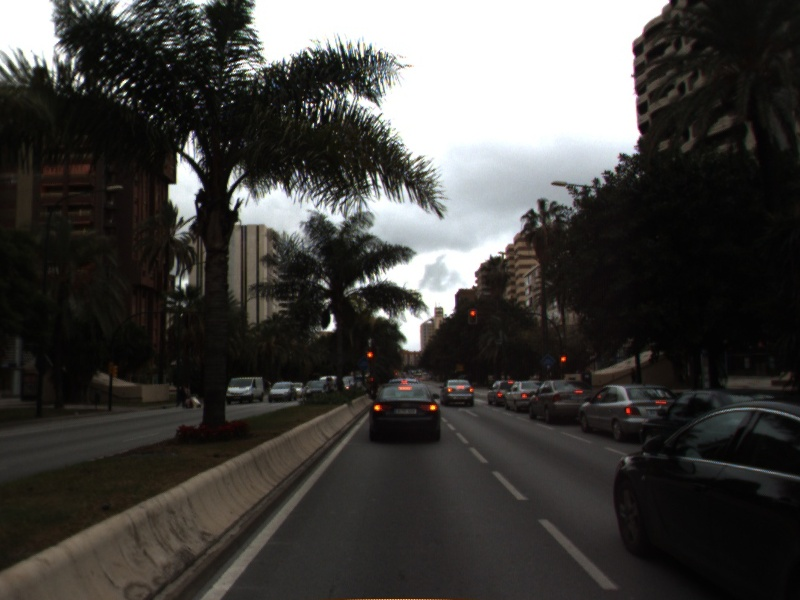STRAIGHT: (455, 404, 480, 419)
